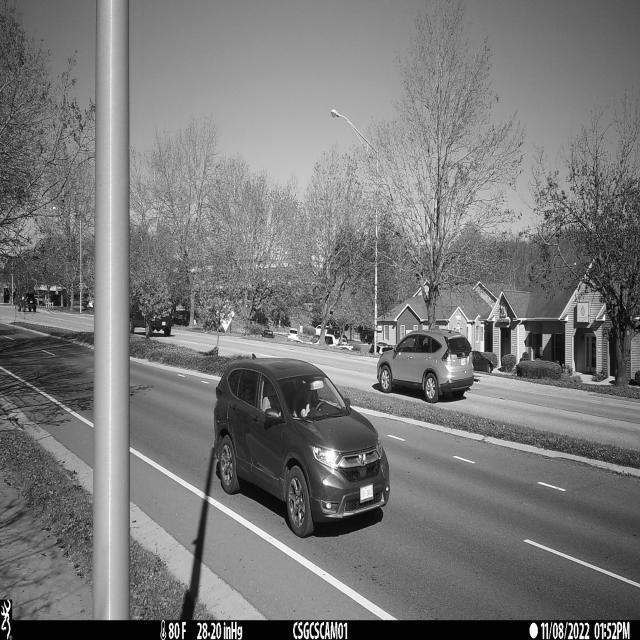SUV: (212, 353, 390, 539)
